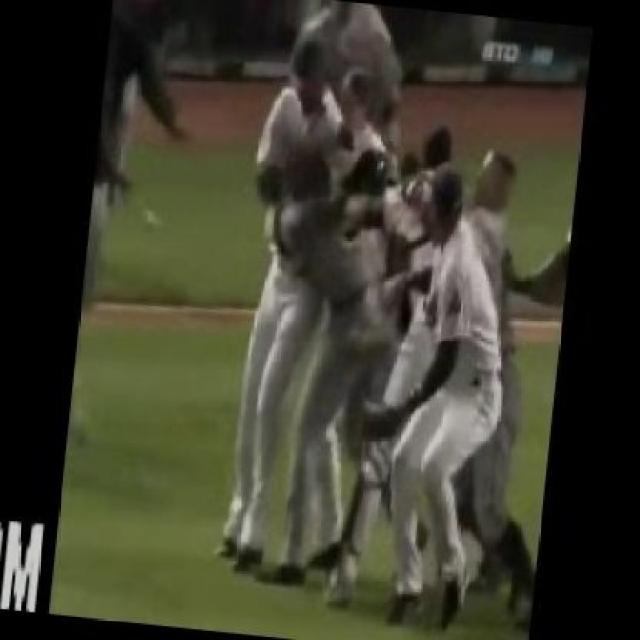fight: (207, 47, 525, 618)
